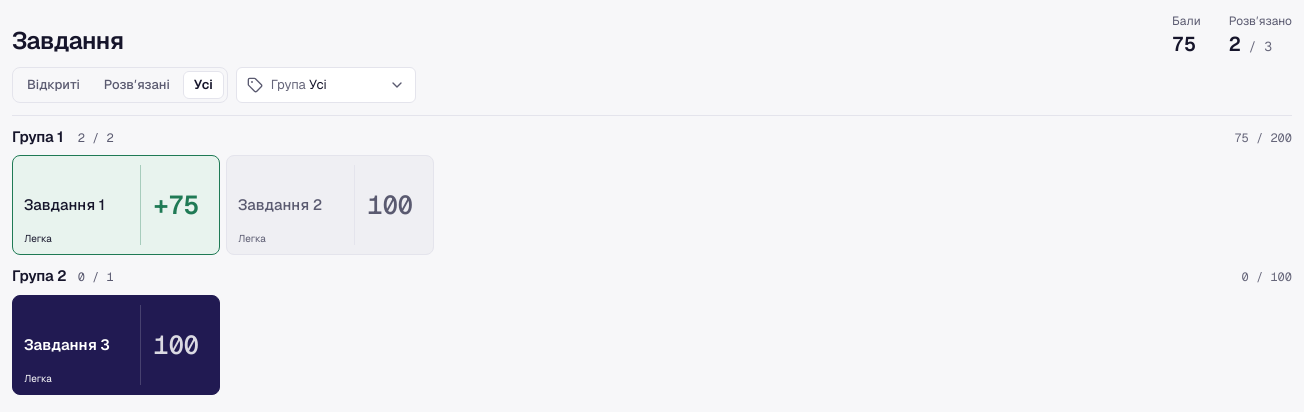
Test: keeps fully solved groups as one quiet line under Open, counting practice as solved
The image size is (1304, 412).
Click the button "Відкриті" at (53, 85), box [16,71,91,99]
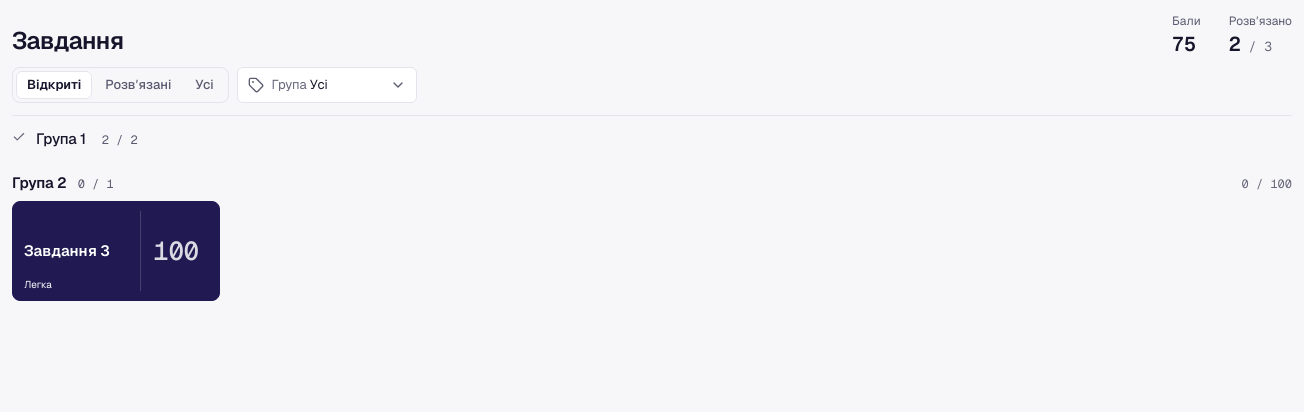
expect the element "Група 1" shows "2 / 2": met, box [102,132,138,148]
expect the text "Завдання 1 Легка +75 Завдання 2 Легка 100" is gone: met
